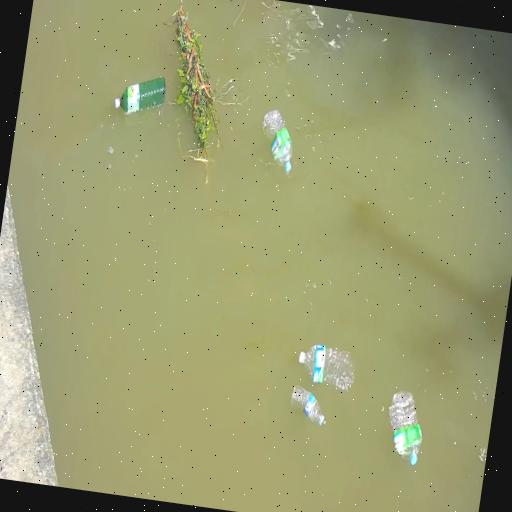plastic: (252, 108, 307, 180), (382, 391, 431, 469), (290, 340, 362, 390), (113, 72, 167, 122), (286, 380, 334, 430)
twig: (150, 11, 239, 163)
